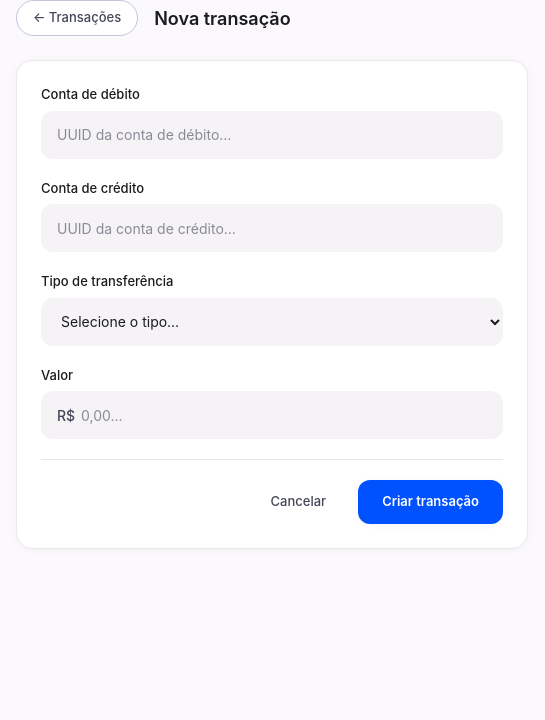
Test: web/CreateTransactionView — TI-04 › preserva a tentativa para recuperação quando a confirmação se perde na rede
The image size is (545, 720).
Type "0199f9c2-1a2b-7c8d-9e0f-100000000001" into the field labelled "Conta de débito" at (272, 134), box [41,110,503,158]
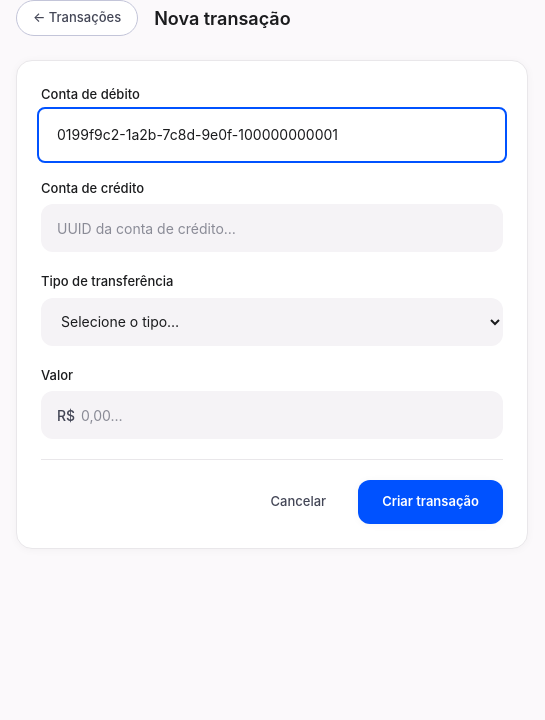
Type "0199f9c2-1a2b-7c8d-9e0f-200000000002" into the field labelled "Conta de crédito" at (272, 228), box [41,204,503,252]
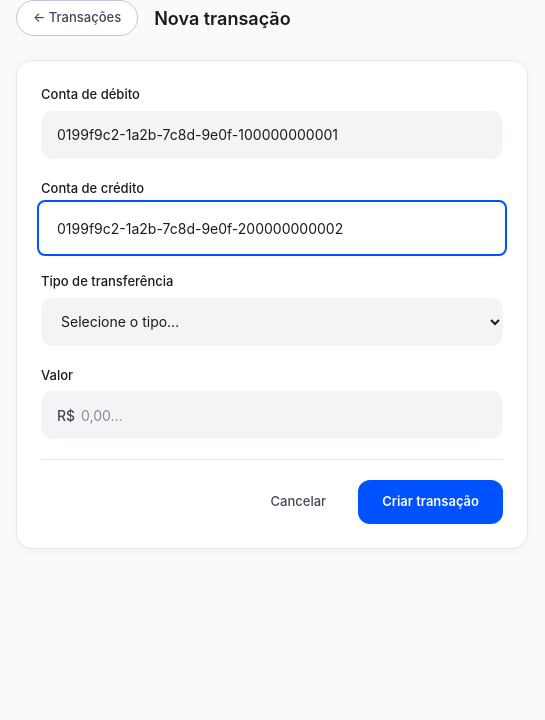
Select "Pix" in the dropdown labelled "Tipo de transferência" at (272, 322), box [41,298,503,346]
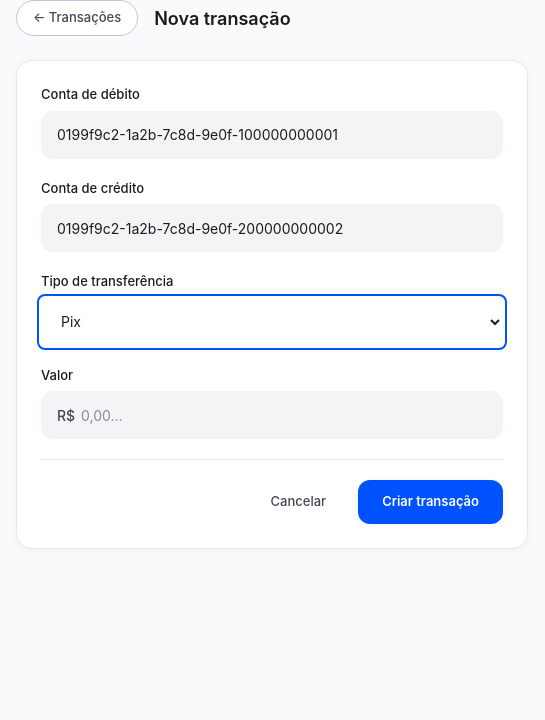
Type "1000" into the field labelled "Valor" at (272, 415), box [41,391,503,439]
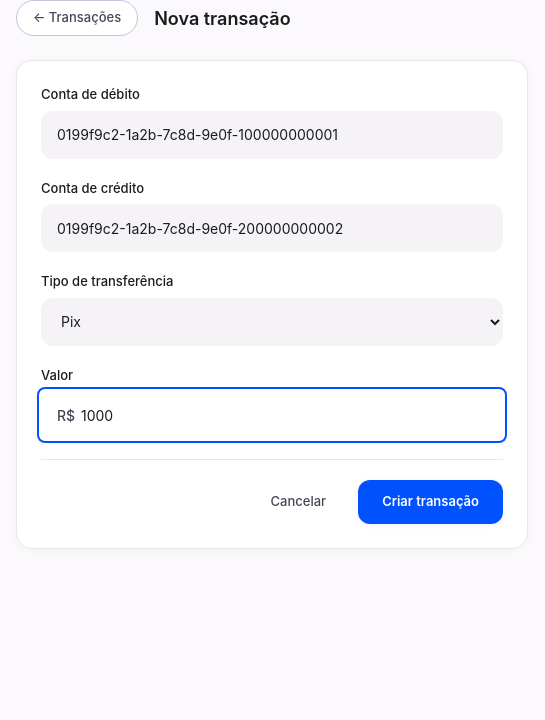
Click the button "Criar transação" at (431, 502), box [358,480,503,524]
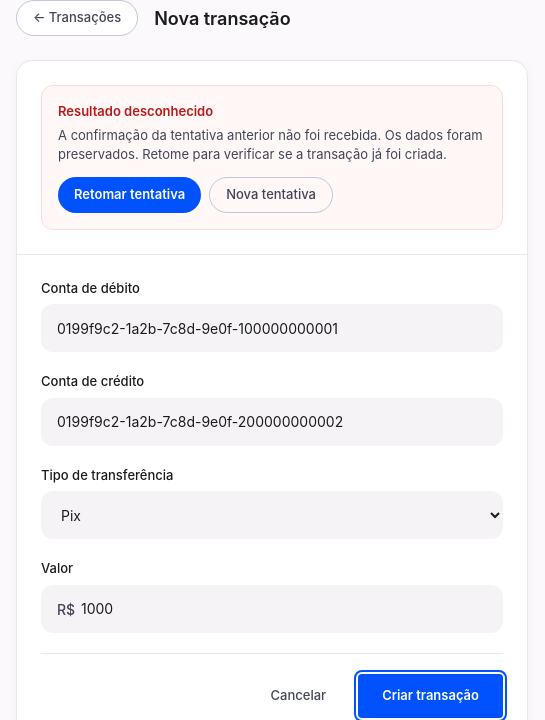
Check: the text "Resultado desconhecido" is shown, box [58,103,213,119]
Check: the button "Retomar tentativa" is shown, box [58,176,201,212]
